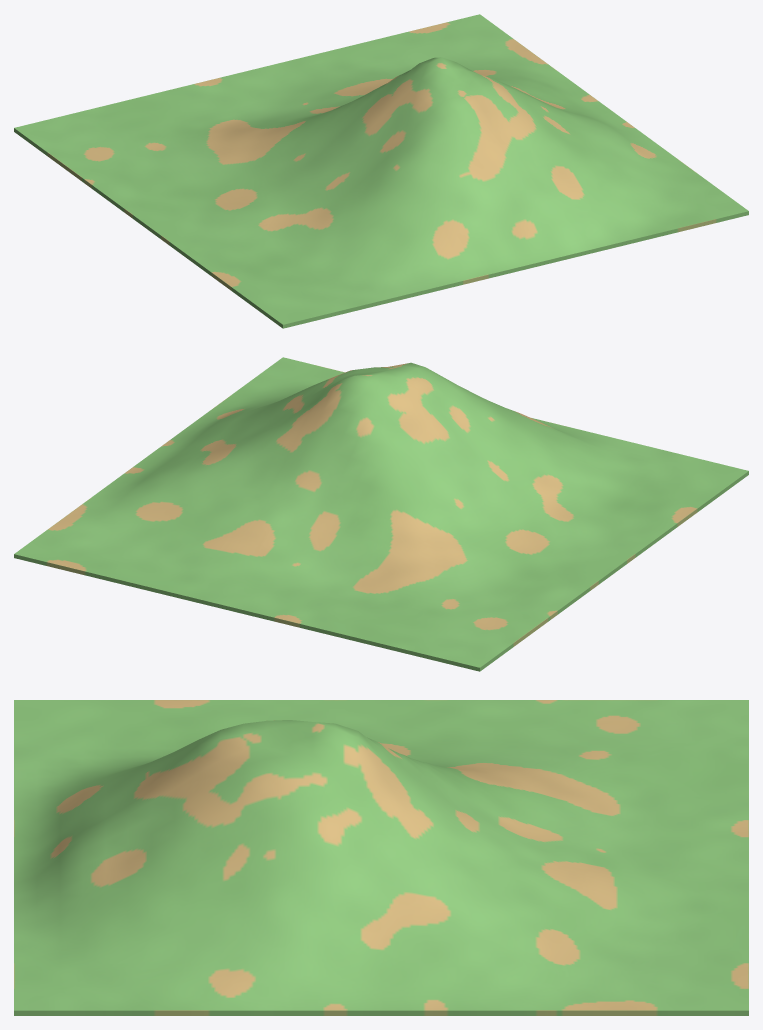
The model's file is Grass_Hills_05.obj.
3 views of the same model, one above another, from view 1: azimuth 30°, elevation 25°; view 2: azimuth 150°, elevation 25°; view 3: azimuth 270°, elevation 25° (orthographic). The views are drawn at different scales.
Size of the model in its own units: 10 by 2.41 by 10.
Materials: 1 (1 with a texture image).
